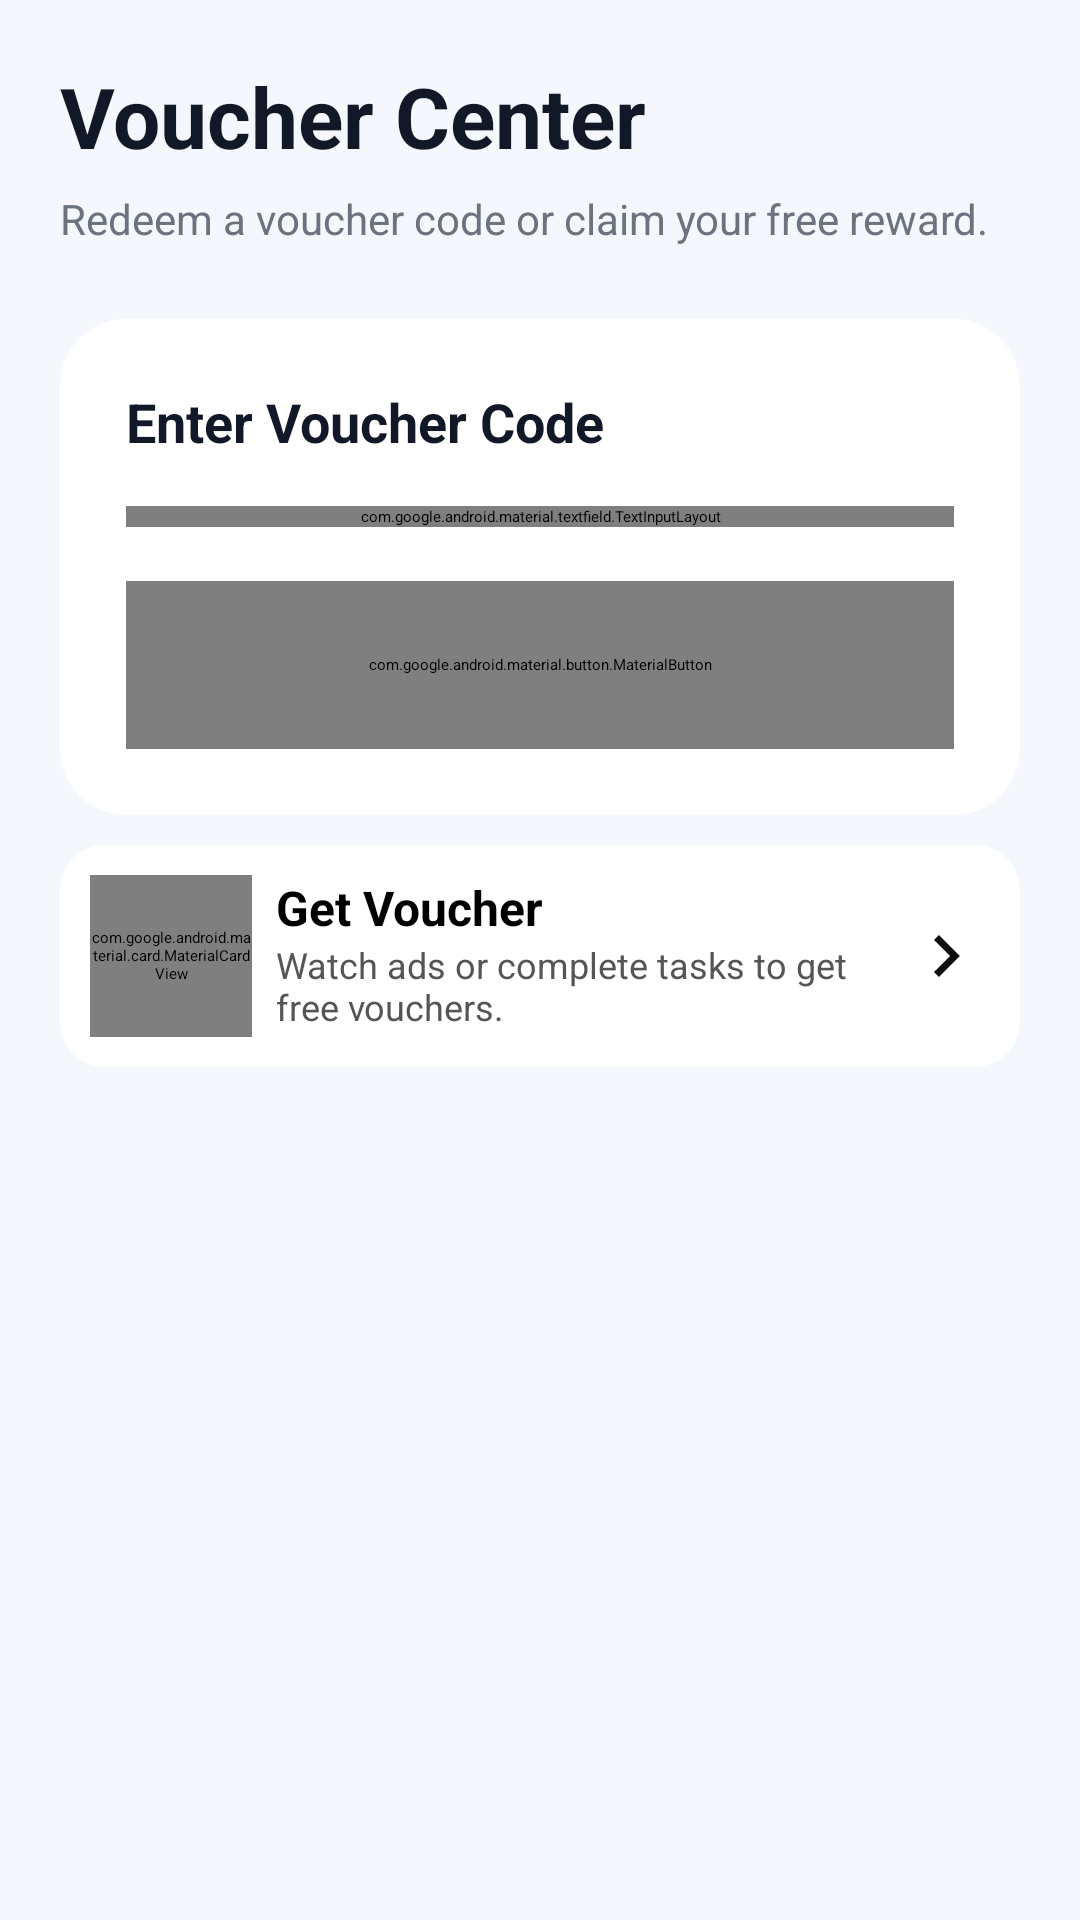

Named icons in this screenshot (1080px×1920px) and their centers, [x,y]:
chevron right: [947,956]
